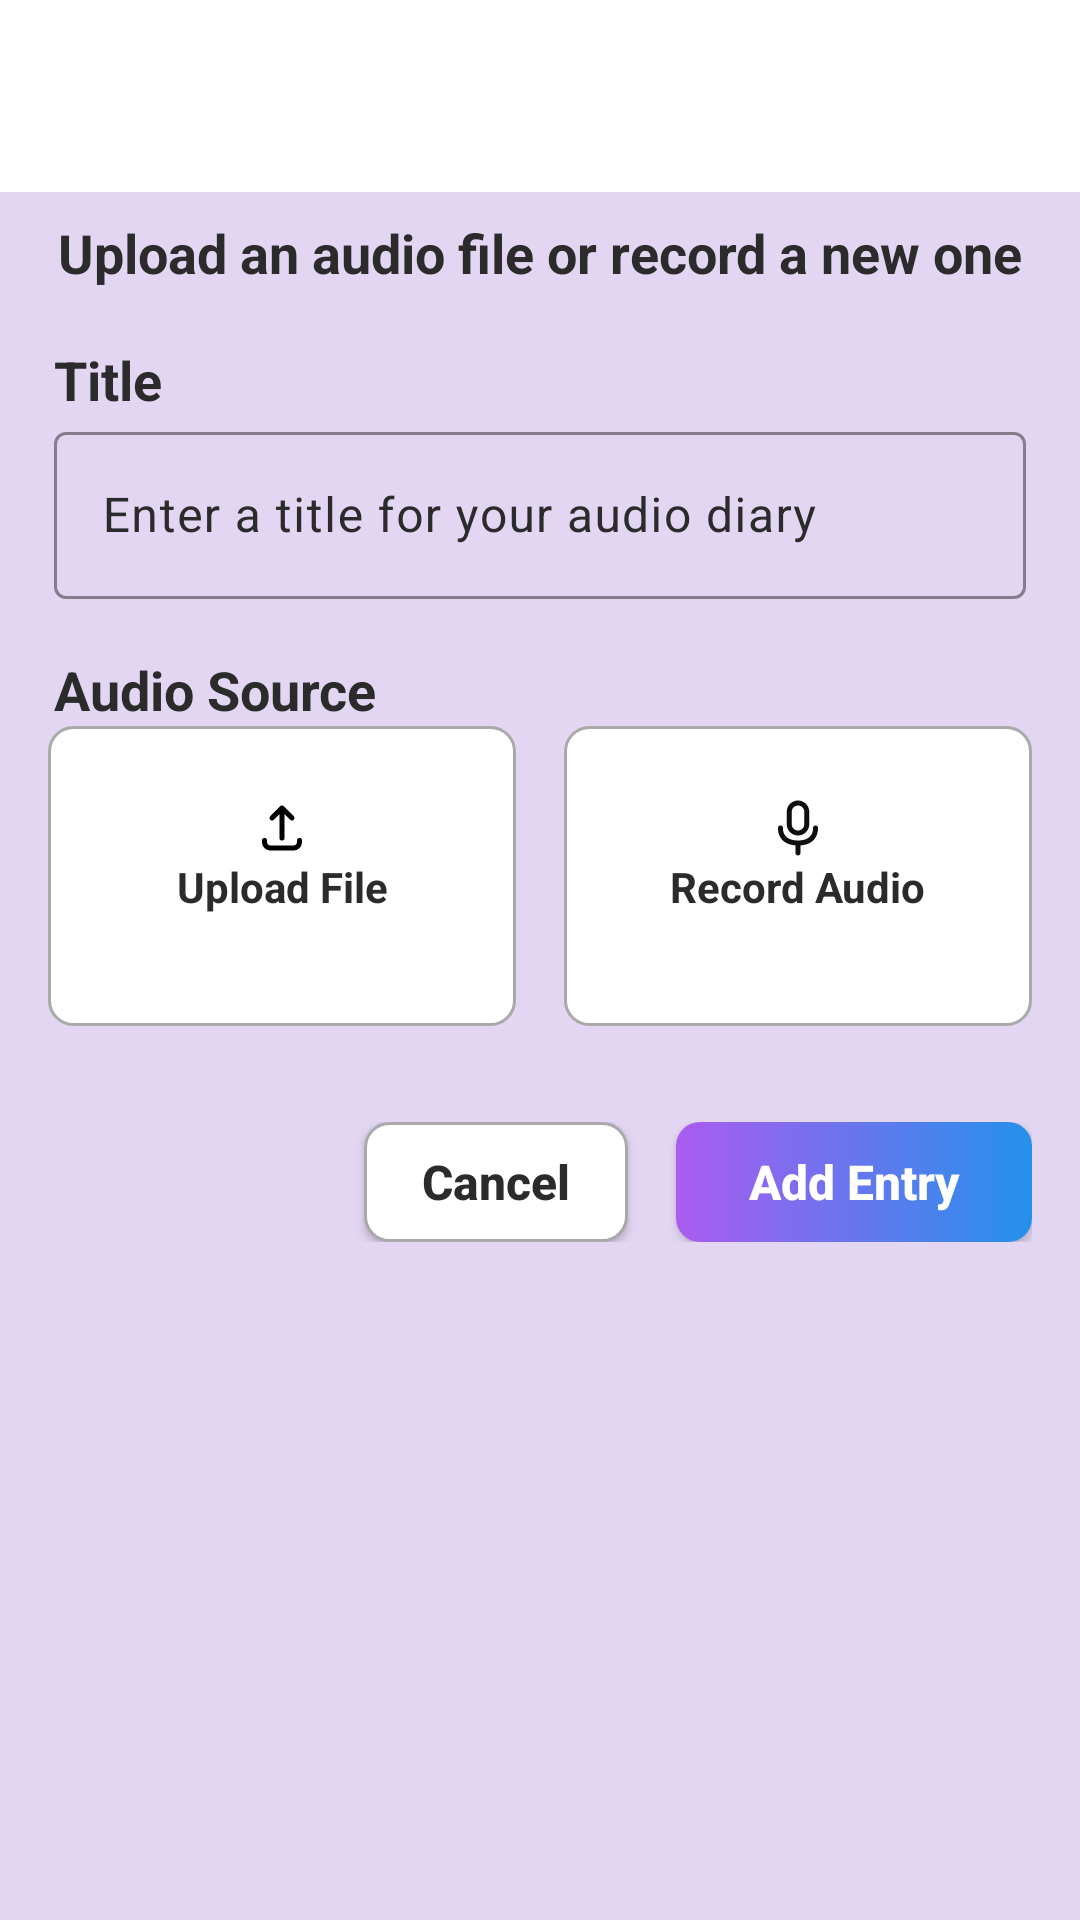

Where to tap for icons on this 1080w x 1920h app screen, as [x,y]:
microphone: [798,828]
